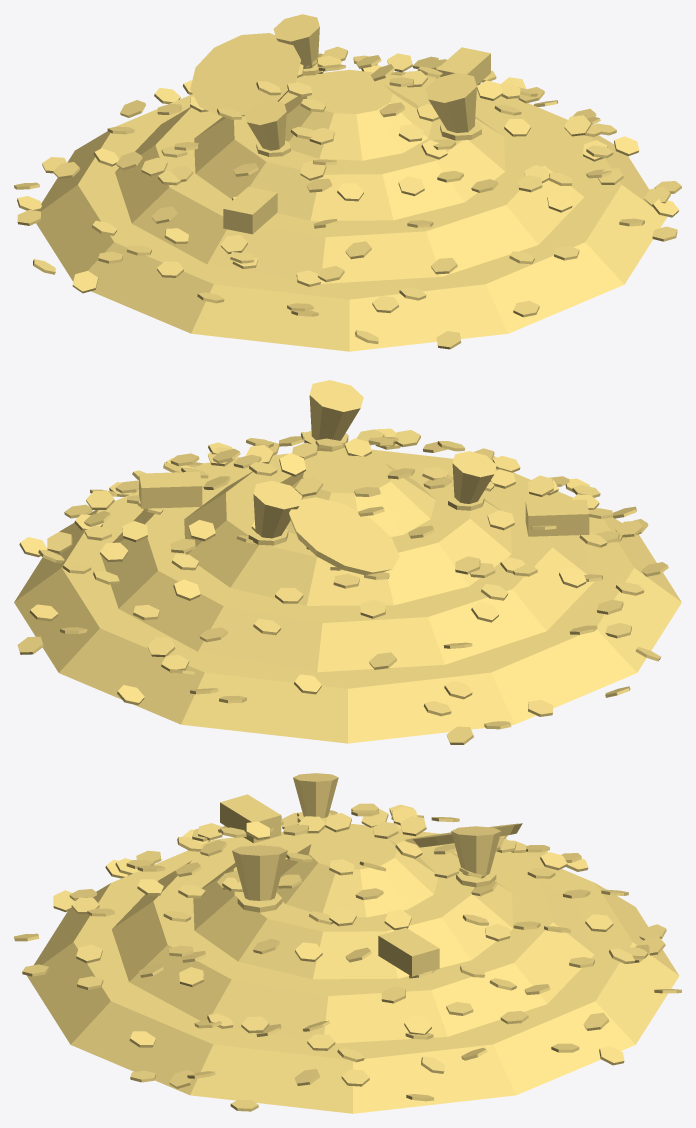
The model's file is dragons-and-wyverns-dragon-hoard-pile-3e2375f3__36739.glb.
3 renders of one model, top to bottom at view 1: azimuth 30°, elevation 25°; view 2: azimuth 150°, elevation 25°; view 3: azimuth 270°, elevation 25°, orthographic. The views are drawn at different scales.
Visible parts, largest first — view 1: dragon-hoard-pile; view 2: dragon-hoard-pile; view 3: dragon-hoard-pile.
Part boxes in pixels (x1,y1,x2,y2): dragon-hoard-pile: (14,14,681,351); dragon-hoard-pile: (14,380,681,744); dragon-hoard-pile: (14,773,681,1113).
Size of the model in its own units: 3.62 by 0.9739 by 3.58.
